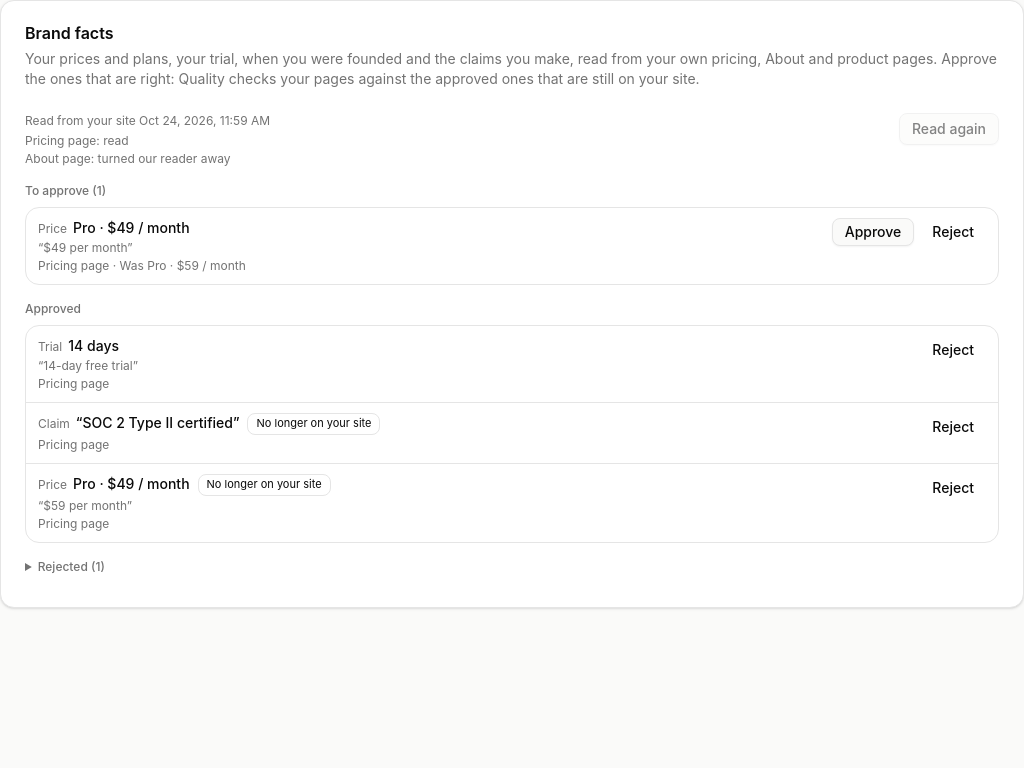
Test: BrandFactsTab › approves a fact as the member, in the list at once, dropping the gone one it replaces
Click the button "Approve" at (873,232), box [832,218,914,246]
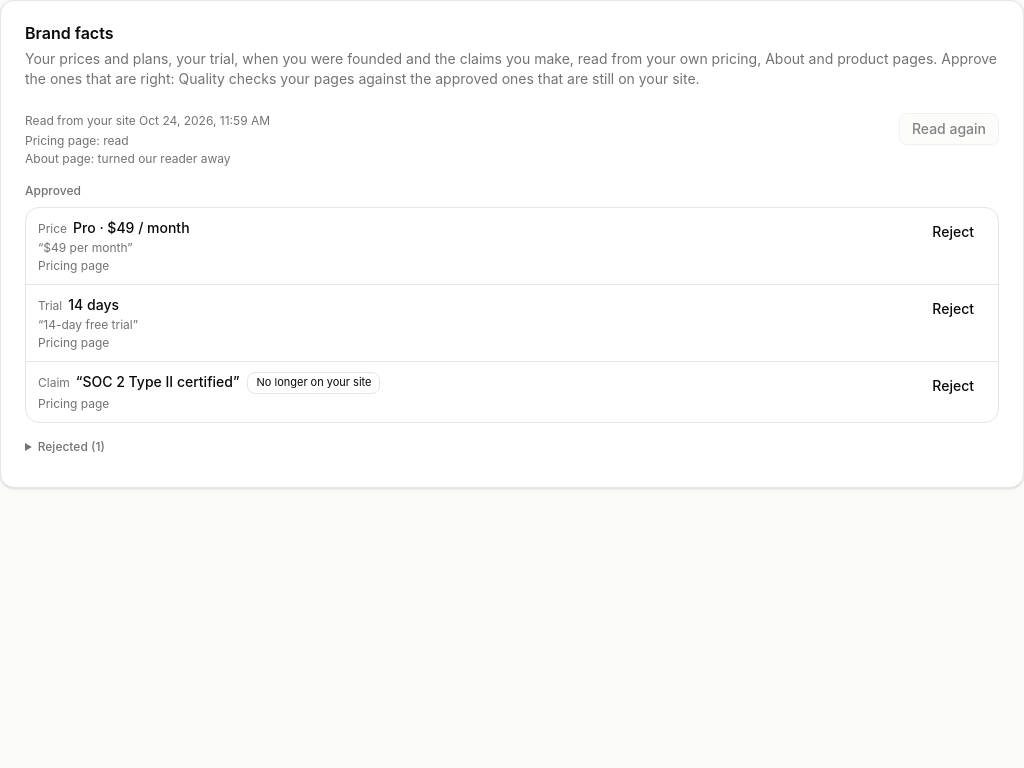
Check: the element that starts with "Approved" shows "Pro · $49 / month", box [73,219,190,236]
Check: the text "$59 per month" is gone
